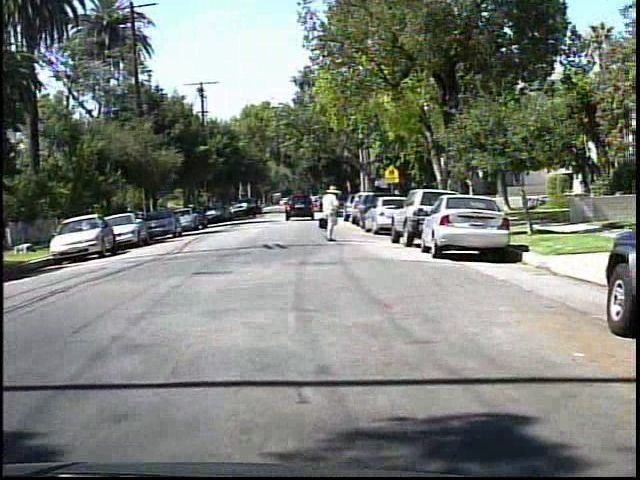person: (314, 184, 346, 244)
